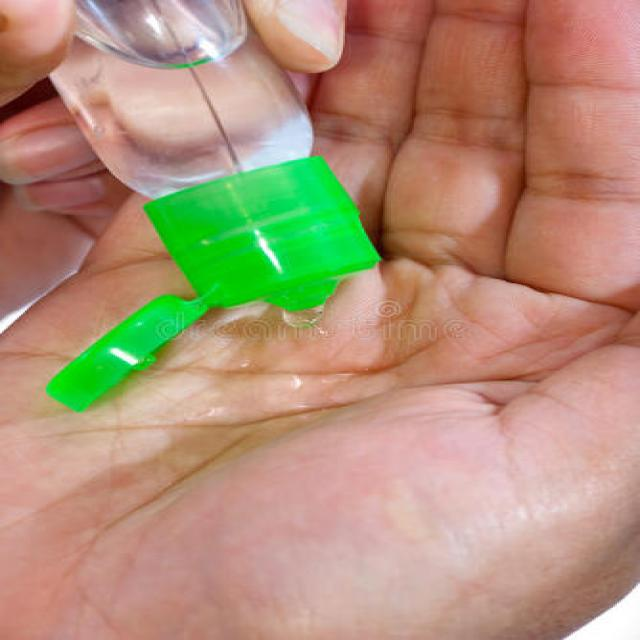sanitizer: (32, 0, 374, 401)
